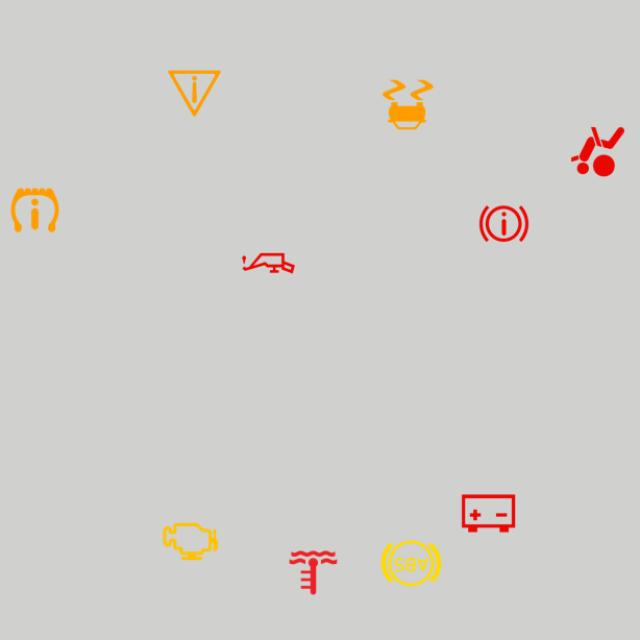Anti Lock Braking System: (378, 530, 444, 596)
Braking System Issue: (471, 190, 537, 256)
Charging System Issue: (456, 481, 522, 546)
Check Engine: (157, 508, 223, 574)
Electronic Stability Problem -ESP-: (375, 72, 441, 138)
Engine Overheating Warning Light: (280, 540, 346, 606)
Low Engine Oil Warning Light: (236, 230, 302, 296)
Low Tire Pressure Warning Light: (2, 177, 68, 243)
Master warning light: (162, 60, 228, 126)
SRS-Airbag: (565, 119, 631, 184)
